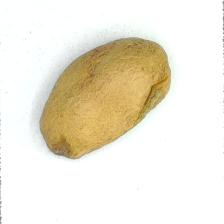NG: (129, 66, 171, 120), (55, 132, 75, 162)
